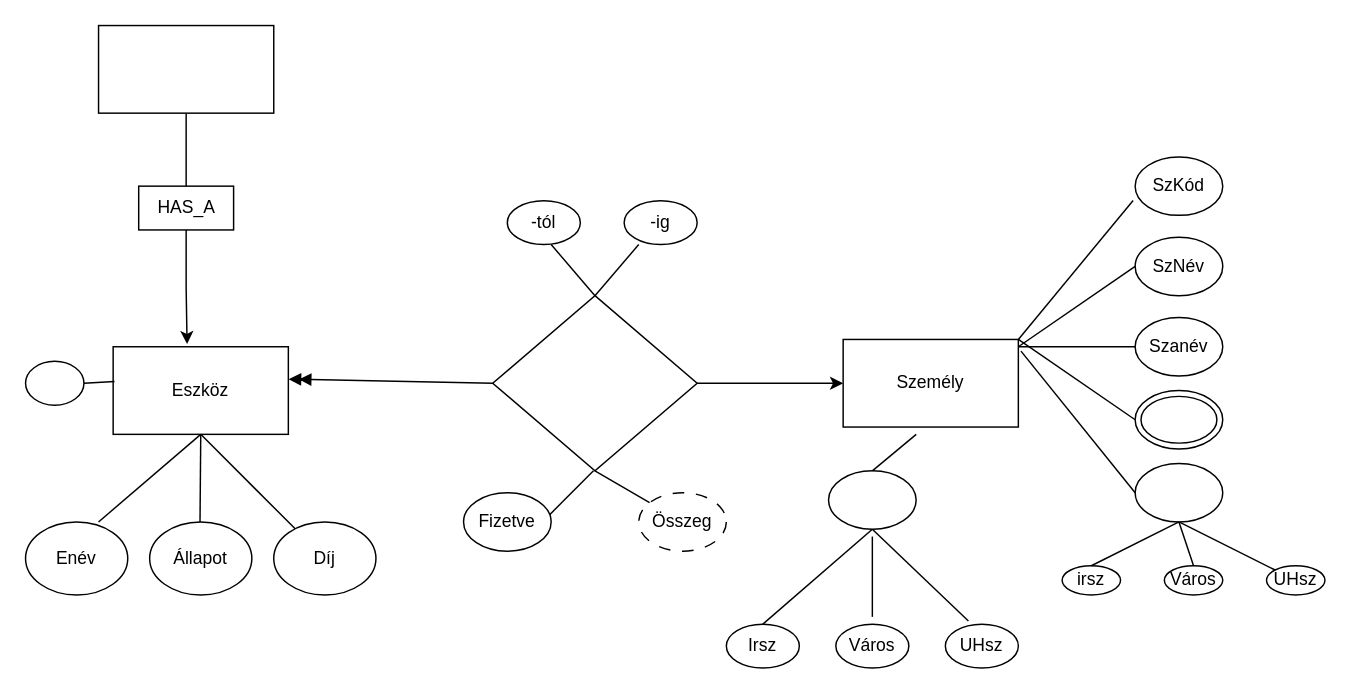
Image size: 1351x694. Some labels were removed from this diagram. The shapes that lost their labels are listed below. From the top down, each one's centre as x and y in pixels, then its label:
At (185,68): "Csónakház".
At (54,382): "Ekód".
At (594,382): "Kölcsönző".
At (1178,419): "Tszám".
At (871,499): "SzaCím".
At (1178,492): "Szlakcím".
